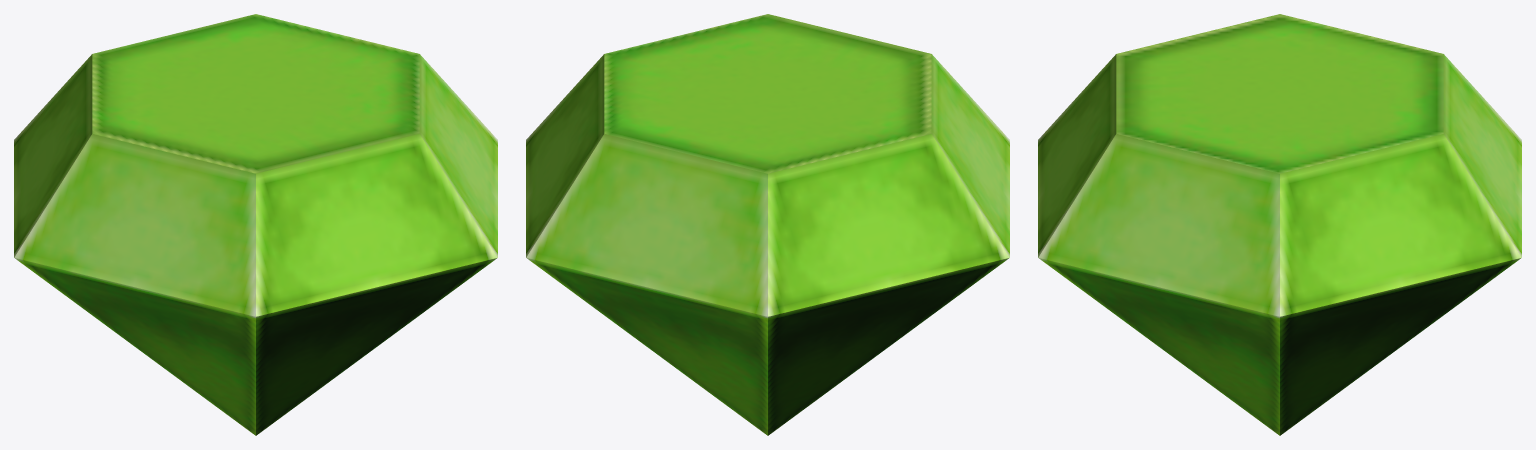
Rendered from Drop_Gem.FBX.
3 renders of one model, left to right at view 1: azimuth 30°, elevation 25°; view 2: azimuth 150°, elevation 25°; view 3: azimuth 270°, elevation 25°, orthographic.
Parts seen in each view (by area): view 1: Object001; view 2: Object001; view 3: Object001.
Part boxes in pixels (left/top/right/bottom): Object001: left=14, top=14, right=497, bottom=435; Object001: left=526, top=14, right=1009, bottom=435; Object001: left=1038, top=14, right=1521, bottom=435.
Bounding box in the file's own units: 1.02 × 0.6871 × 0.8804.
